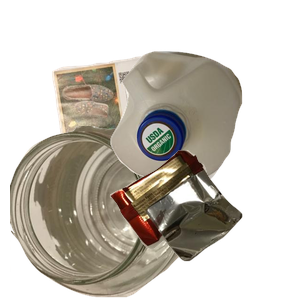glass: (10, 126, 216, 300)
paper: (49, 51, 235, 212)
plastic: (108, 49, 300, 226)
trash: (107, 148, 300, 300)
